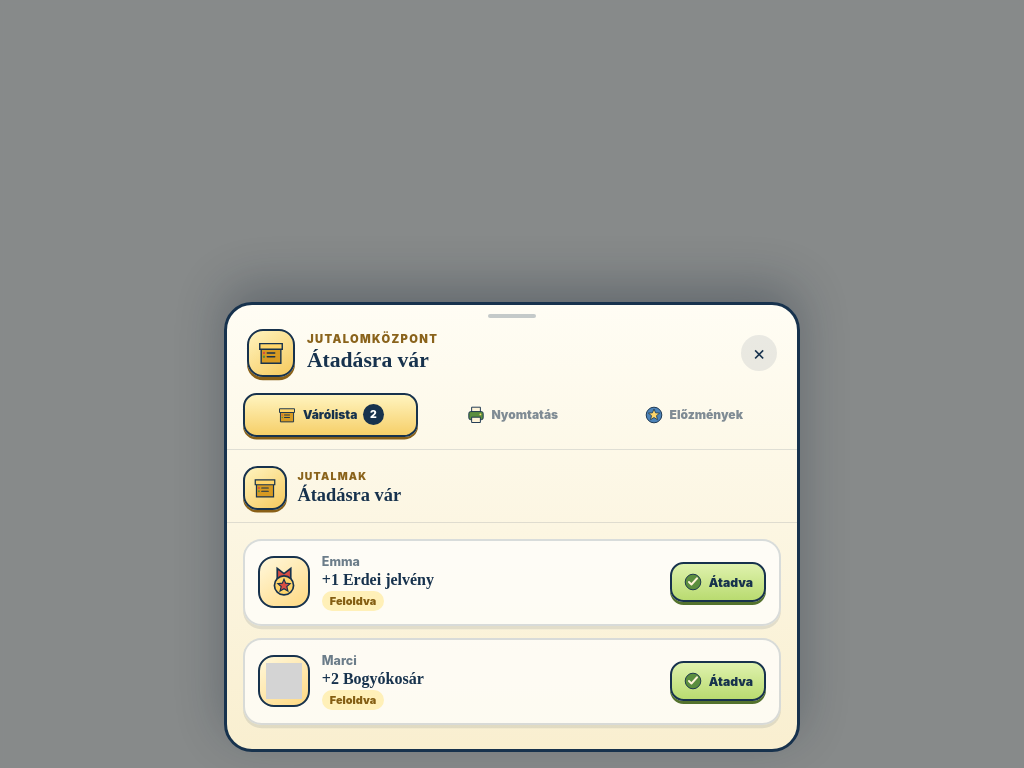
Test: RewardCenterComponent › opens every queued reward in a batch preview without updating their status
Click the button "Nyomtatás" at {"x": 512, "y": 415}, box [424,393,600,437]
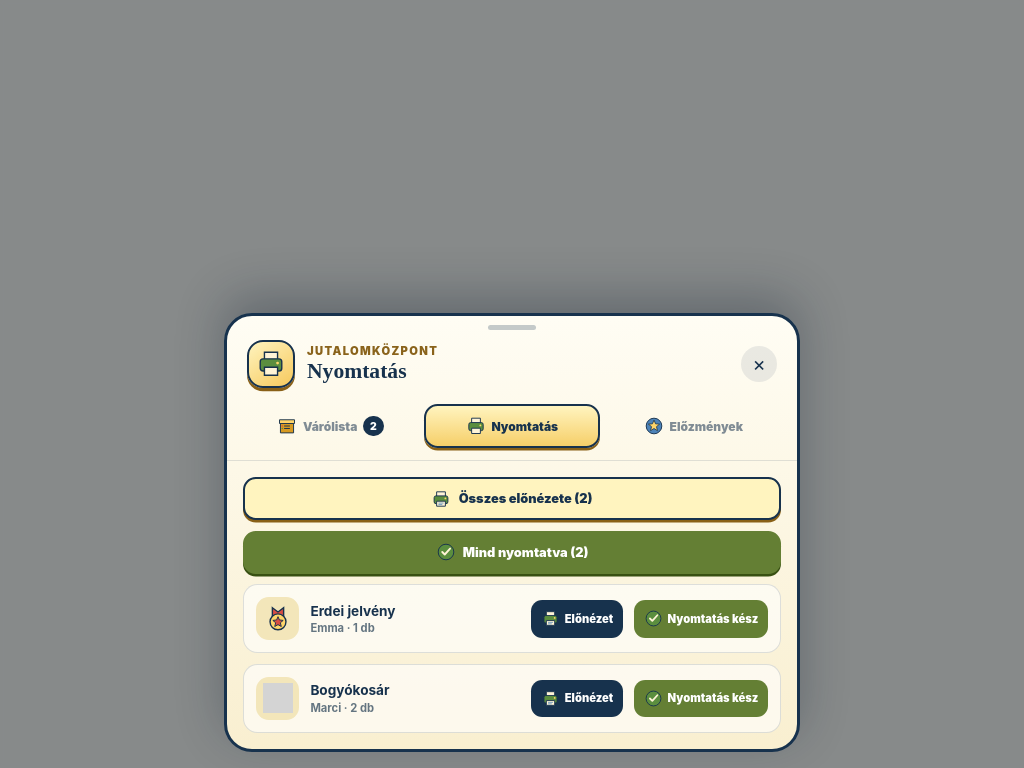
Click the button "Összes előnézete (2)" at {"x": 512, "y": 499}, box [243,477,781,520]
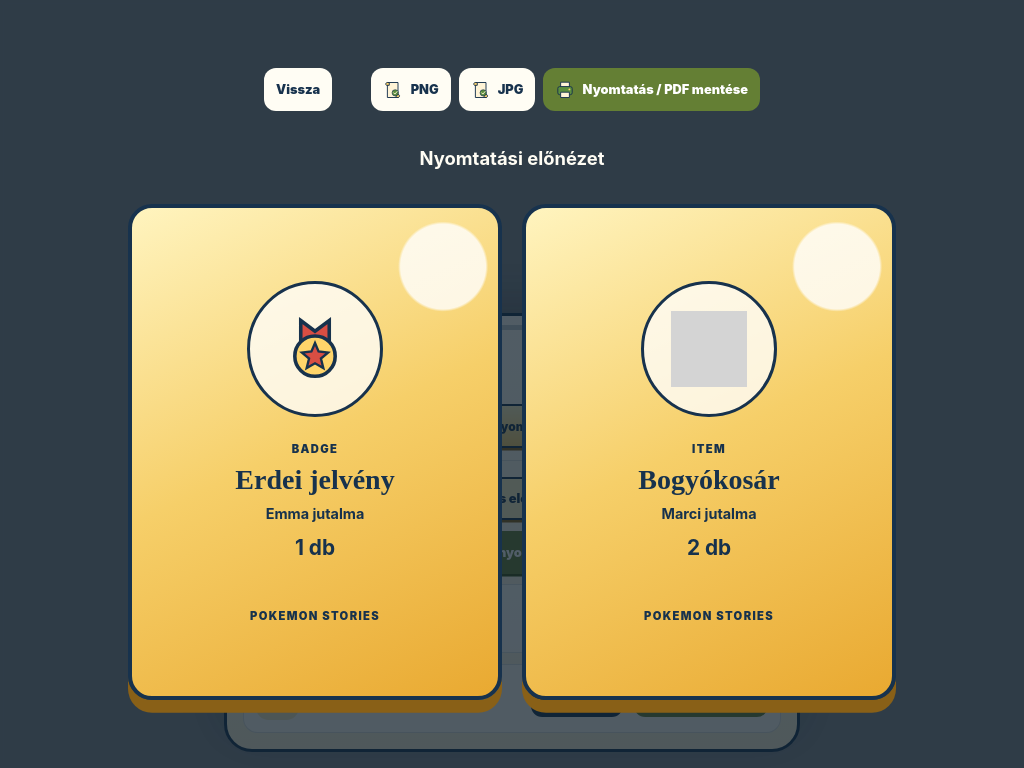
Expected: the text "Erdei jelvény" is shown, [310,603,396,619]
Expected: the number of elements with class "reward-center__print-preview" is 2, [128,204,502,700]; [522,204,896,700]
